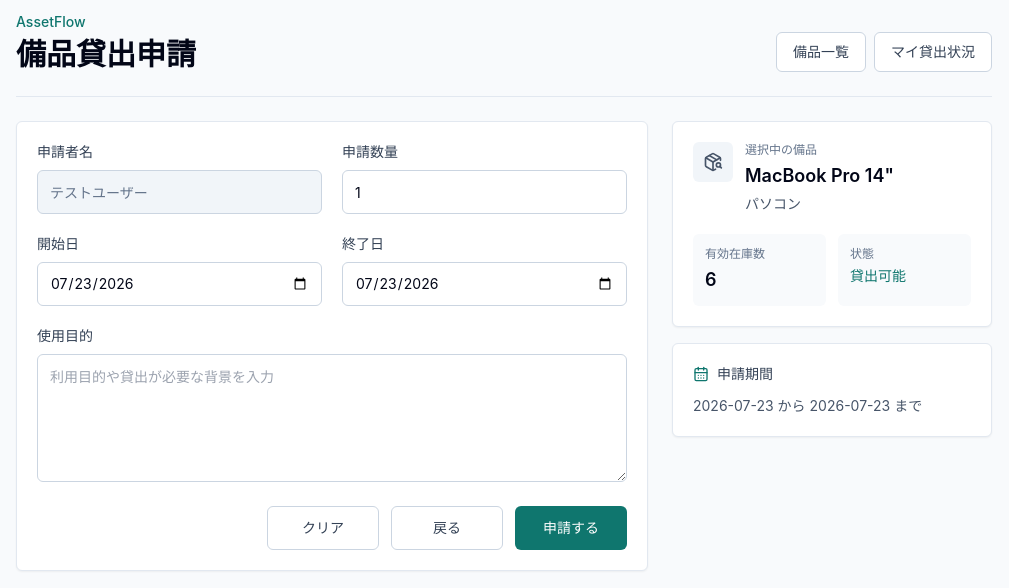
Test case: AssetLoanRequestPage › 027: 申請数量の先頭ゼロは正規化される
Check: the heading "備品貸出申請" is shown, box [16,36,196,72]
Replace the text in the field labelled "申請数量" with "02" at x=484, y=192, box [342,170,627,214]
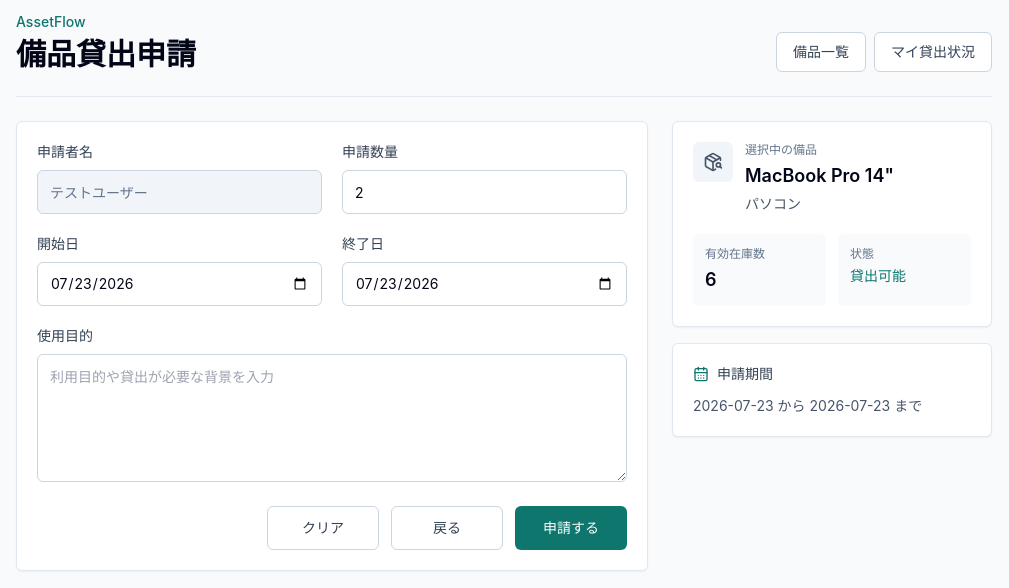
Check: the field labelled "申請数量" holds "2", box [342,170,627,214]
